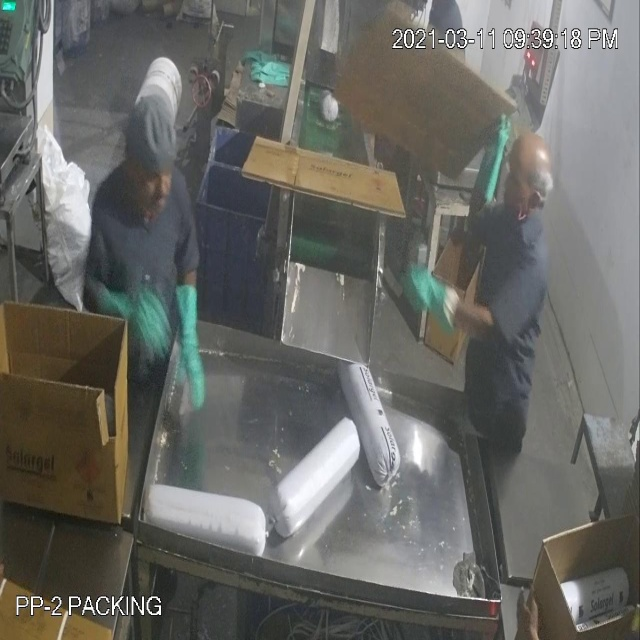Guantes: (467, 98, 519, 212), (176, 265, 216, 413), (396, 256, 447, 323)
